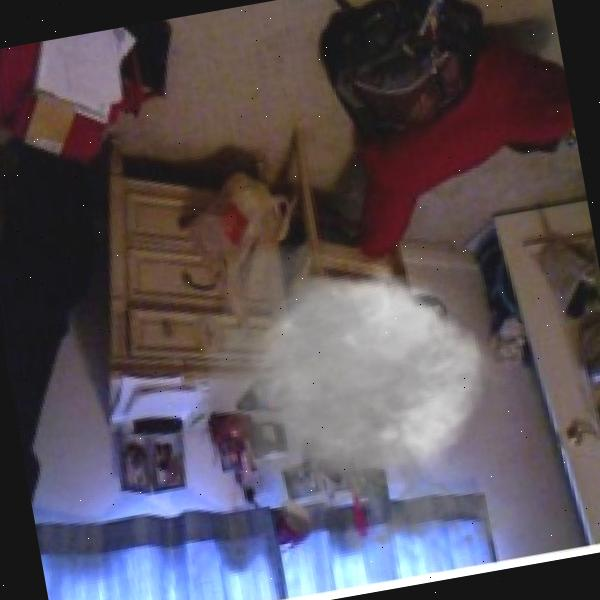smoke: (157, 186, 583, 600)
